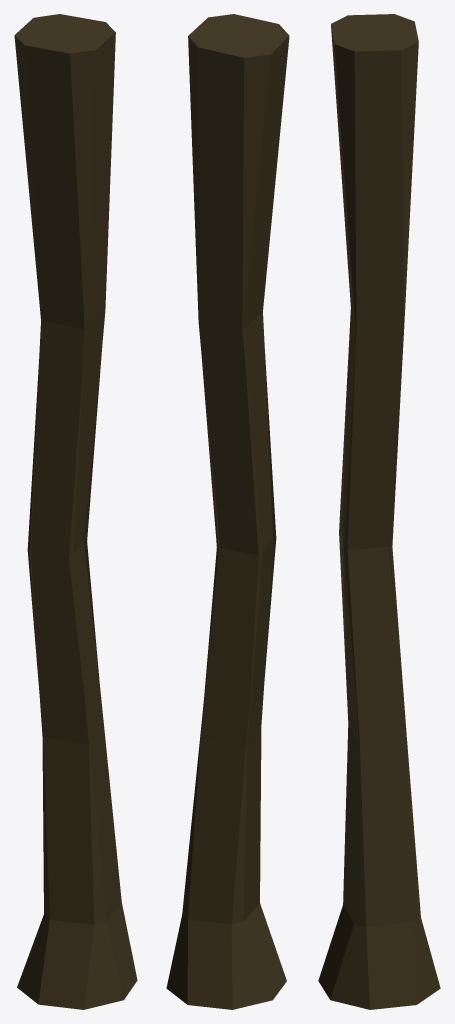
Rendered from Beam.fbx.
3 views of the same model, side by side, from view 1: azimuth 30°, elevation 25°; view 2: azimuth 210°, elevation 25°; view 3: azimuth 330°, elevation 25° (orthographic).
Parts seen in each view (by area): view 1: Cube; view 2: Cube; view 3: Cube.
Part boxes in pixels (bbox=[...]): Cube: bbox=[14, 14, 137, 1009]; Cube: bbox=[166, 14, 289, 1009]; Cube: bbox=[318, 14, 440, 1009].
Size of the model in its own units: 30.94 by 279 by 30.51.
1 material, 1 textured.
